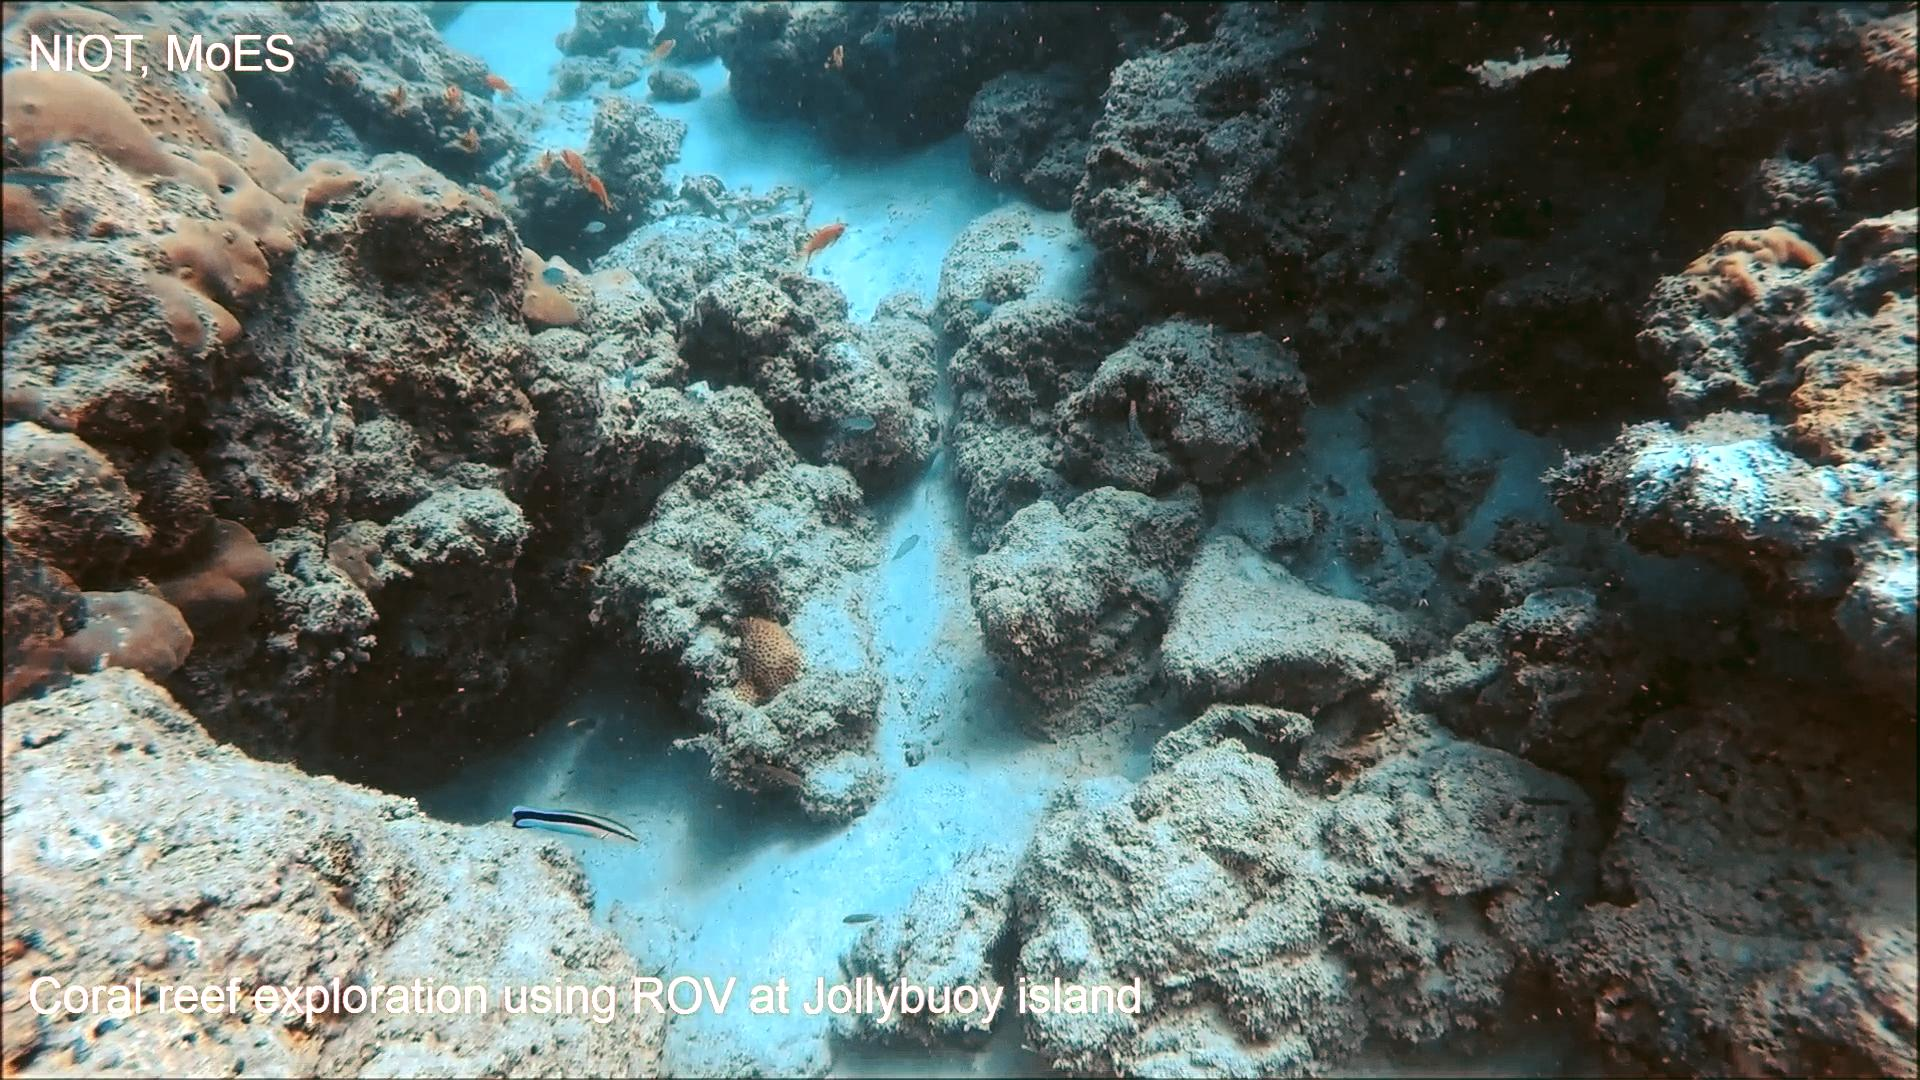Porites-Porites pukoensis: (0, 0, 375, 373)
